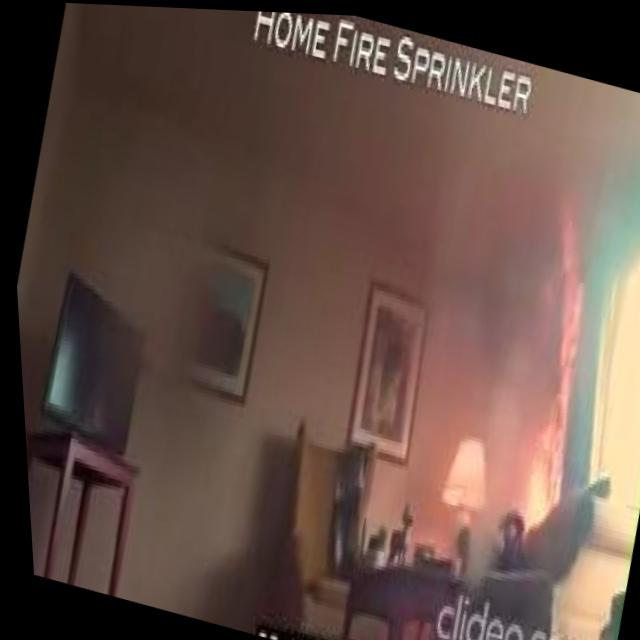fire: (483, 181, 624, 526)
